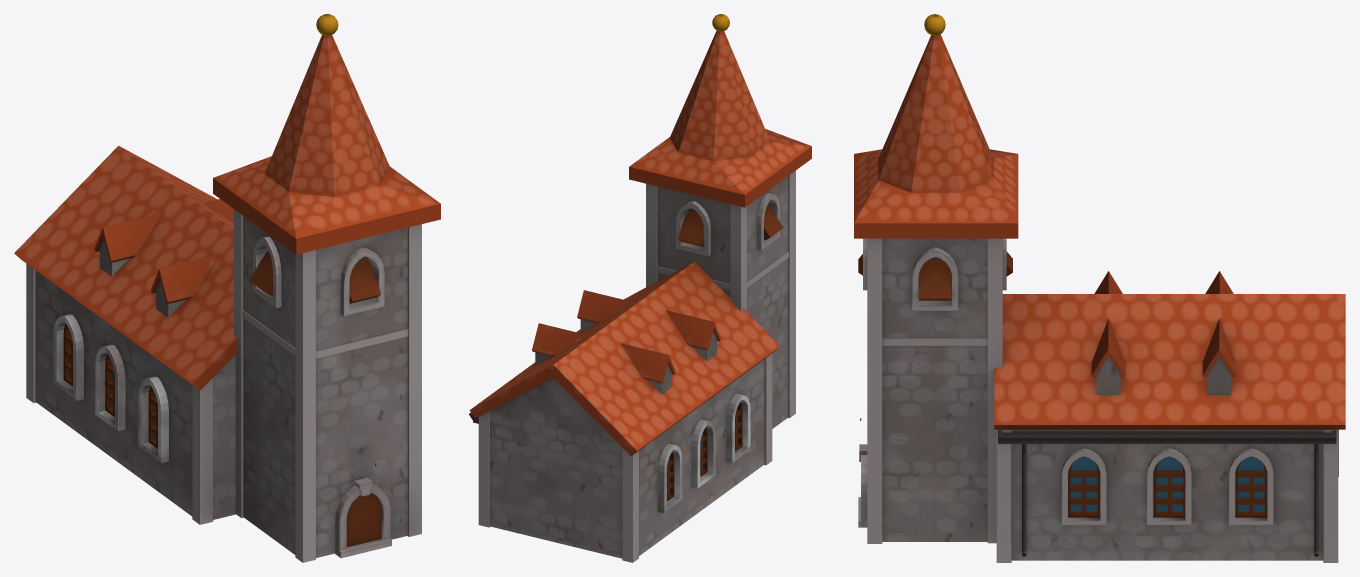
File: church.obj
3 renders of one model, left to right at view 1: azimuth 30°, elevation 25°; view 2: azimuth 150°, elevation 25°; view 3: azimuth 270°, elevation 25°, orthographic. The views are drawn at different scales.
Visible parts, largest first — view 1: obj1.029, obj1.230, obj1.018, obj1.032, obj1.001, obj1.257, obj1.035, obj1.034, obj1.014, obj1.094, obj1.253, obj1.041 (+17 smaller); view 2: obj1.015, obj1.230, obj1.029, obj1.018, obj1.032, obj1.040, obj1.039, obj1.231, obj1.001, obj1.252, obj1.253, obj1.235 (+14 smaller); view 3: obj1.235, obj1.029, obj1.017, obj1.032, obj1.257, obj1.037, obj1.119, obj1.038, obj1.036, obj1.102, obj1.011, obj1.227 (+17 smaller).
Boxes of the visible parts, x1,y1,x2,y2 form: obj1.029: [243, 216, 407, 557]; obj1.230: [14, 145, 237, 383]; obj1.018: [35, 270, 192, 516]; obj1.032: [213, 156, 440, 254]; obj1.001: [295, 250, 315, 562]; obj1.257: [408, 224, 421, 536]; obj1.035: [327, 35, 379, 196]; obj1.034: [288, 35, 334, 197]; obj1.014: [213, 355, 235, 519]; obj1.094: [192, 378, 213, 524]; obj1.253: [234, 209, 243, 518]; obj1.041: [264, 34, 323, 191]; obj1.015: [490, 378, 622, 558]; obj1.230: [553, 261, 780, 450]; obj1.029: [657, 176, 788, 428]; obj1.018: [639, 359, 764, 555]; obj1.032: [629, 129, 811, 207]; obj1.040: [713, 31, 751, 161]; obj1.039: [678, 31, 719, 161]; obj1.231: [469, 365, 636, 456]; obj1.001: [788, 170, 795, 418]; obj1.252: [622, 448, 638, 562]; obj1.253: [730, 204, 746, 311]; obj1.235: [471, 262, 692, 409]; obj1.235: [994, 294, 1345, 424]; obj1.029: [882, 238, 987, 541]; obj1.017: [1011, 429, 1323, 560]; obj1.032: [854, 149, 1018, 238]; obj1.257: [867, 238, 882, 543]; obj1.037: [911, 35, 960, 192]; obj1.119: [987, 238, 1002, 543]; obj1.038: [938, 34, 993, 192]; obj1.036: [878, 35, 934, 192]; obj1.102: [998, 436, 1336, 441]; obj1.011: [1323, 429, 1338, 562]; obj1.227: [996, 429, 1011, 562].
Bounding box in the file's own units: 5.86 × 13.3 × 12.16.
1 material, 1 textured.
